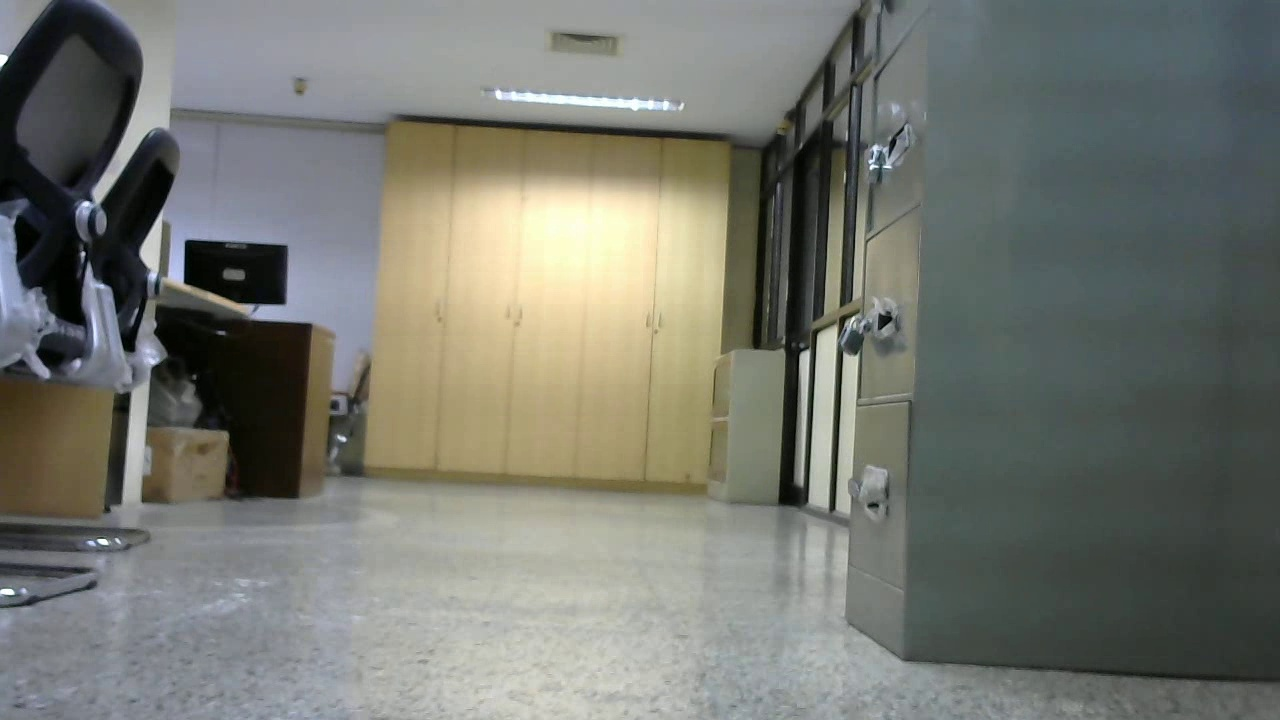chair: (3, 2, 184, 617)
